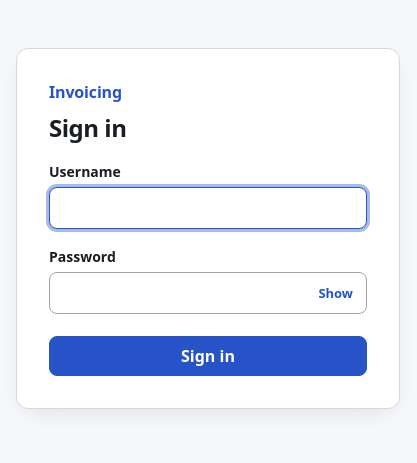
Scenario: LoginPage › keeps the username but clears and focuses the password after a failed sign-in
In the field labelled "Username": [208, 208] box [49,186,367,228], type "alice"
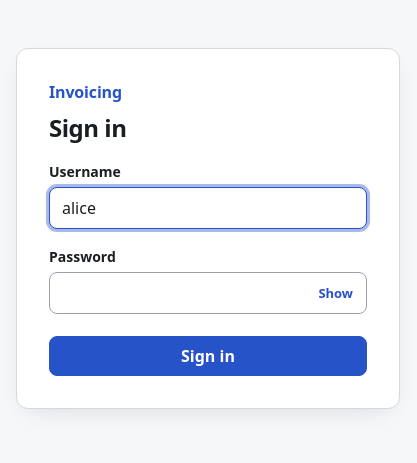
In the password field labelled "Password": [208, 292] box [49,272,367,314], type "wrong"
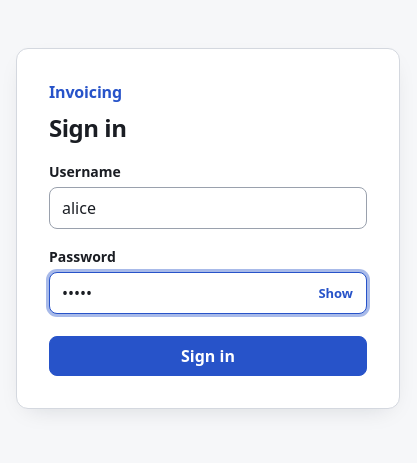
Click the button "Sign in": [208, 356] box [49,336,367,376]
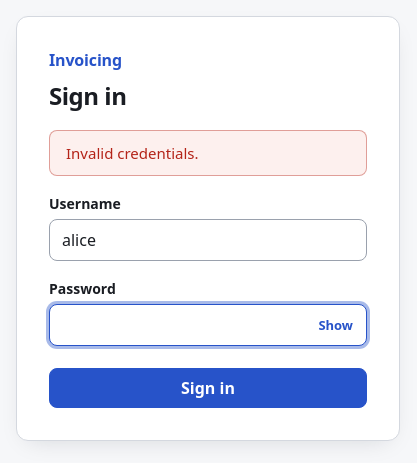
Expected: the message "Invalid credentials." is shown, [49,130,367,176]
Expected: the password field labelled "Password" is empty, [49,304,367,346]
